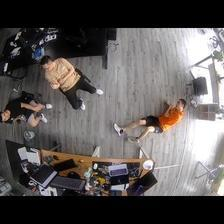fall: (110, 97, 186, 143)
